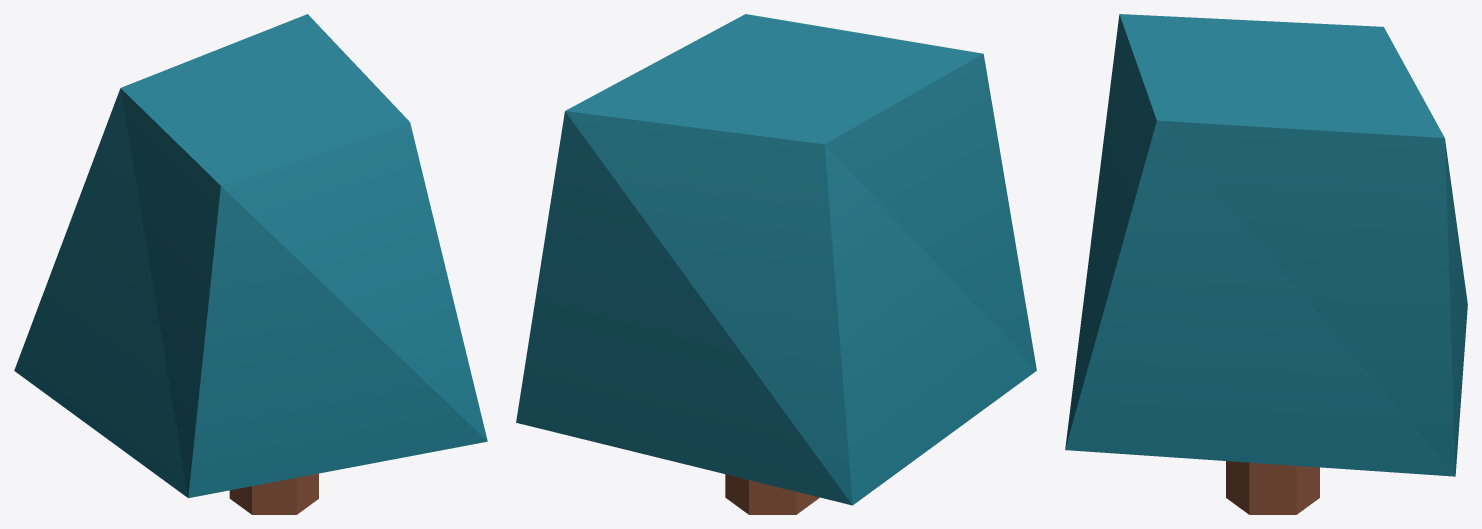
File: Bush_11_gradient_blue_pal.fbx
The picture shows the model from 3 angles, left to right: view 1: azimuth 30°, elevation 25°; view 2: azimuth 150°, elevation 25°; view 3: azimuth 270°, elevation 25°; orthographic projection. The views are drawn at different scales.
Visible parts, largest first — view 1: Bush_11_gradient_blue_pal; view 2: Bush_11_gradient_blue_pal; view 3: Bush_11_gradient_blue_pal.
Boxes of the visible parts, x1,y1,x2,y2 form: Bush_11_gradient_blue_pal: (14,14,487,514); Bush_11_gradient_blue_pal: (516,14,1036,514); Bush_11_gradient_blue_pal: (1065,14,1467,514).
Size of the model in its own units: 50.88 by 59.59 by 51.95.
